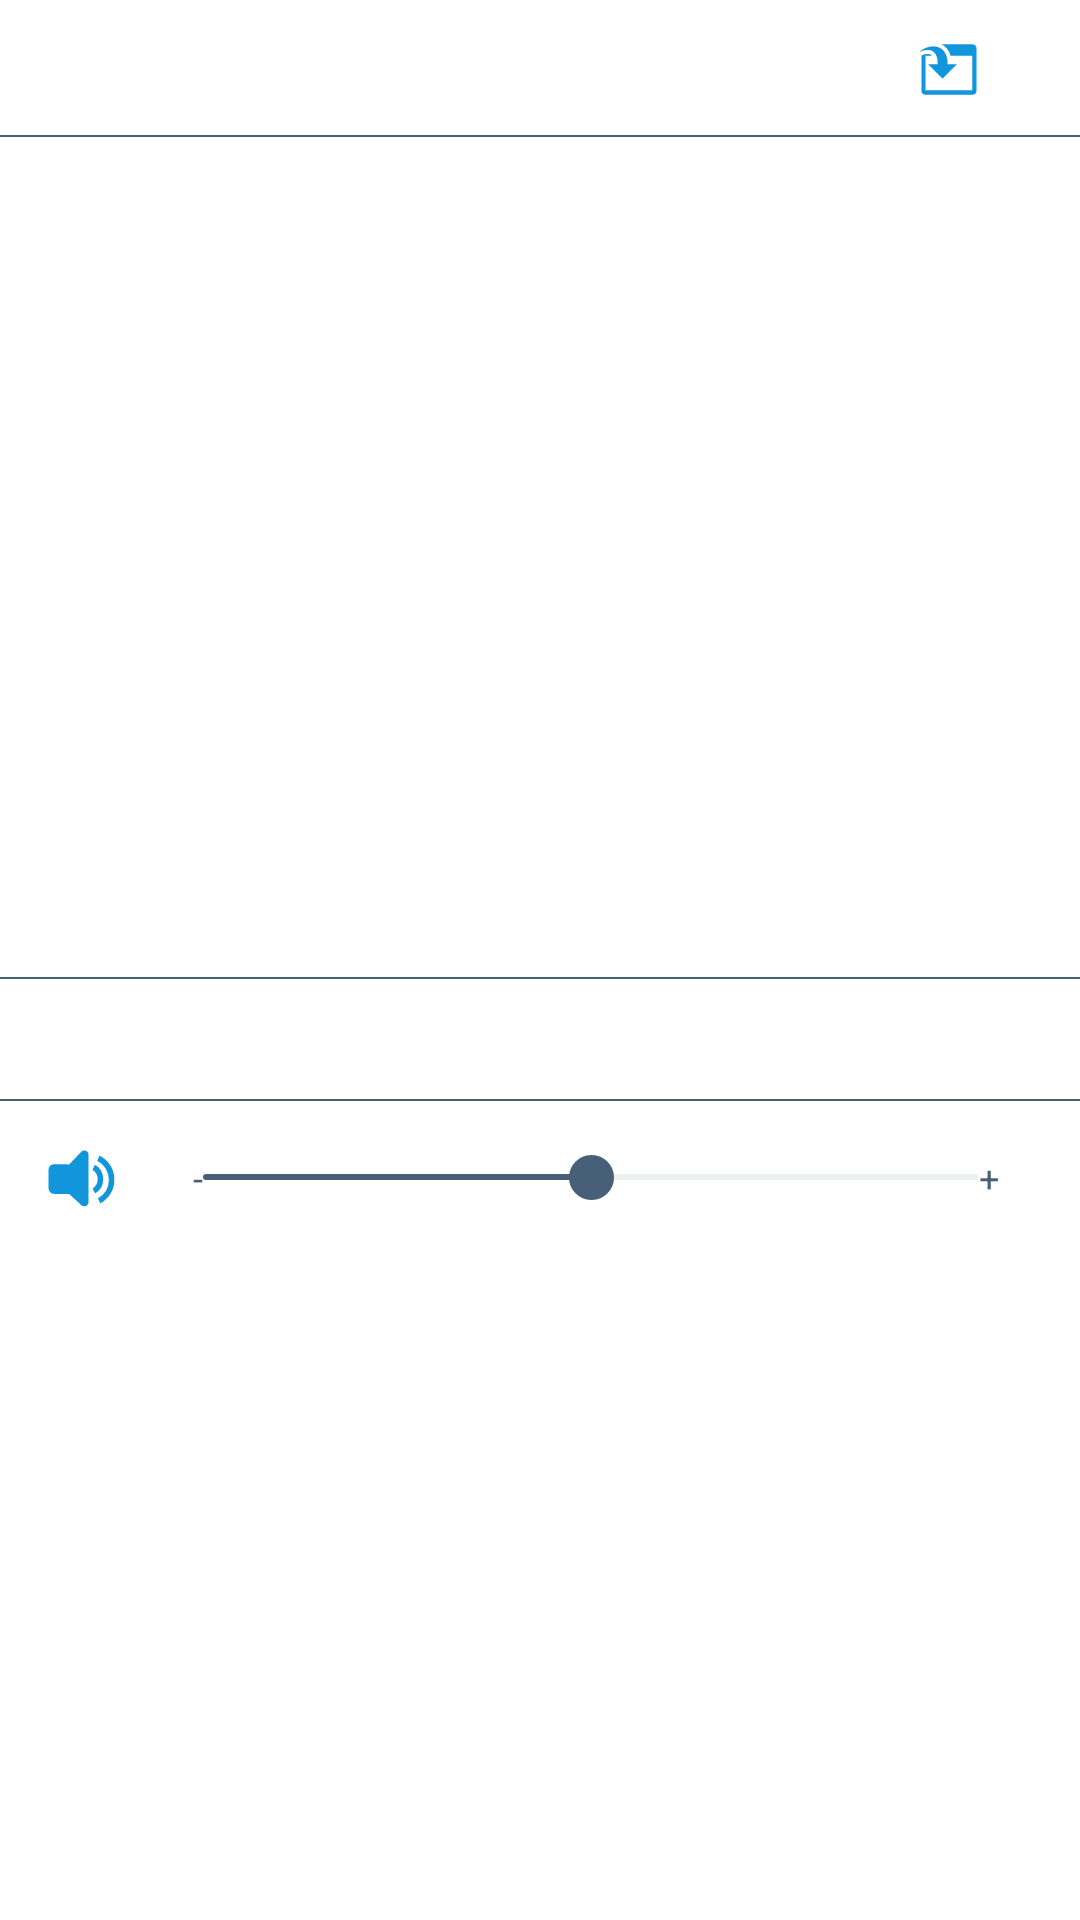

Named icons in this screenshot (1080×1920) and their centers, point (x, y):
Import: point (948, 69)
Volume: point (81, 1178)
